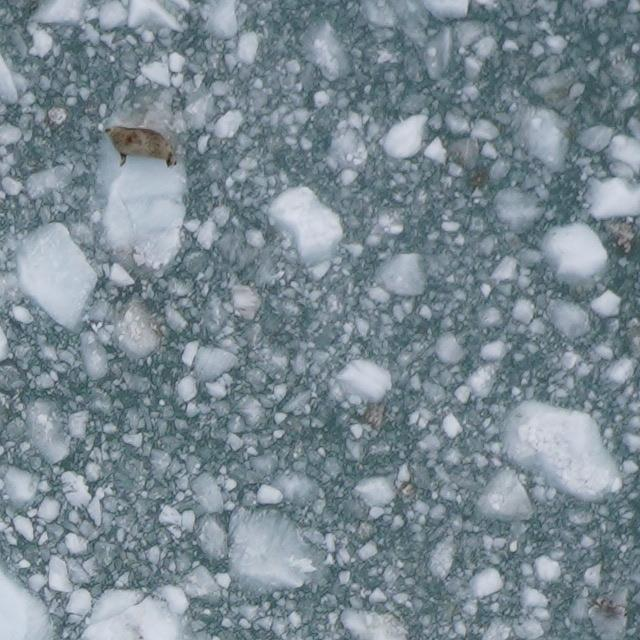seal: (99, 121, 183, 174)
